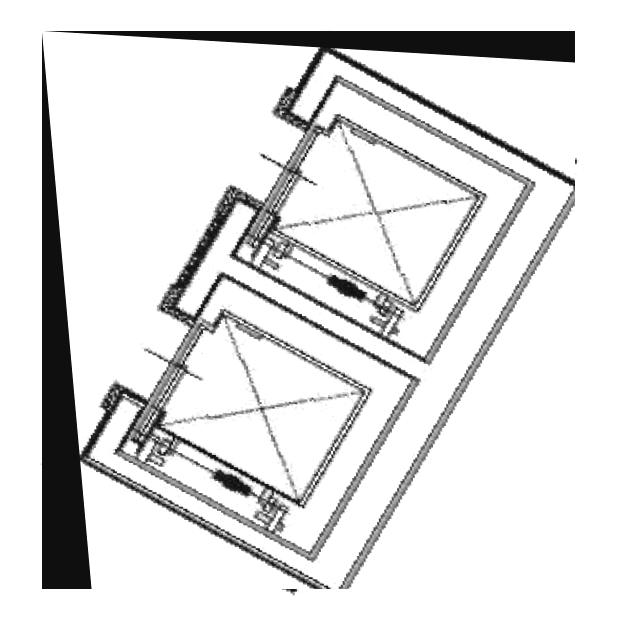lift: (42, 32, 575, 590)
